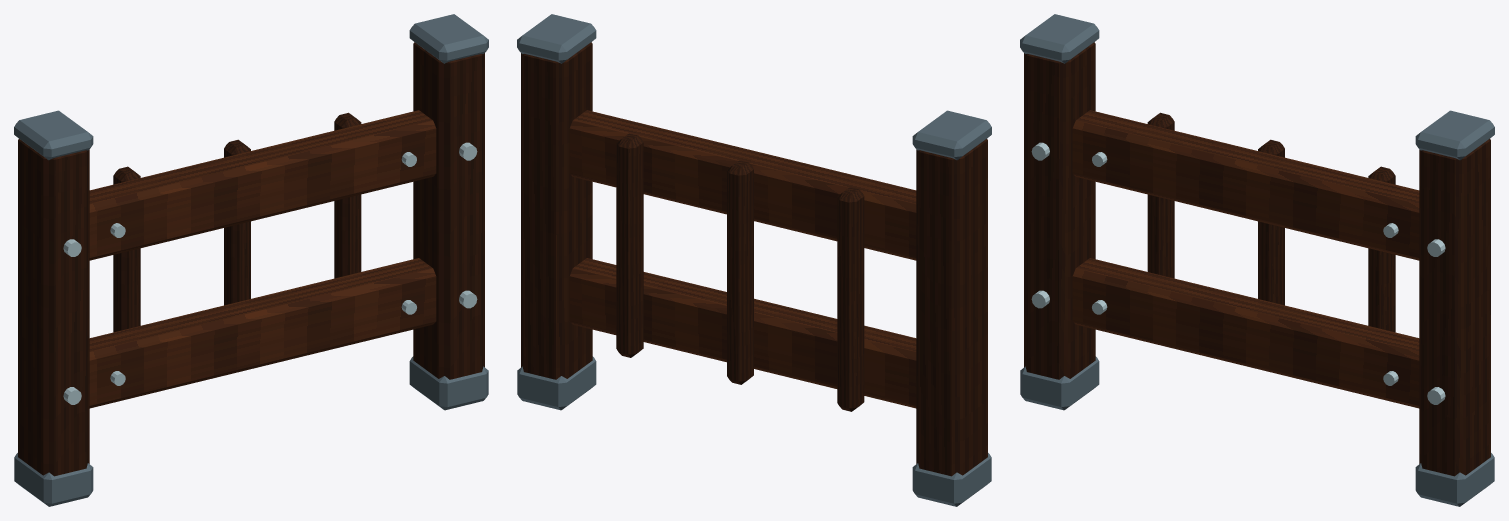
File: cerca-madeira.glb
3 renders of one model, left to right at view 1: azimuth 30°, elevation 25°; view 2: azimuth 150°, elevation 25°; view 3: azimuth 330°, elevation 25°, orthographic.
Visible parts, largest first — view 1: Longarina; view 2: Longarina; view 3: Longarina.
Part boxes in pixels (x1,y1,x2,y2): Longarina: (14,14,488,506); Longarina: (517,14,991,506); Longarina: (1020,14,1494,506).
Size of the model in its own units: 1.01 by 0.7945 by 0.164.
4 materials, 2 textured.
